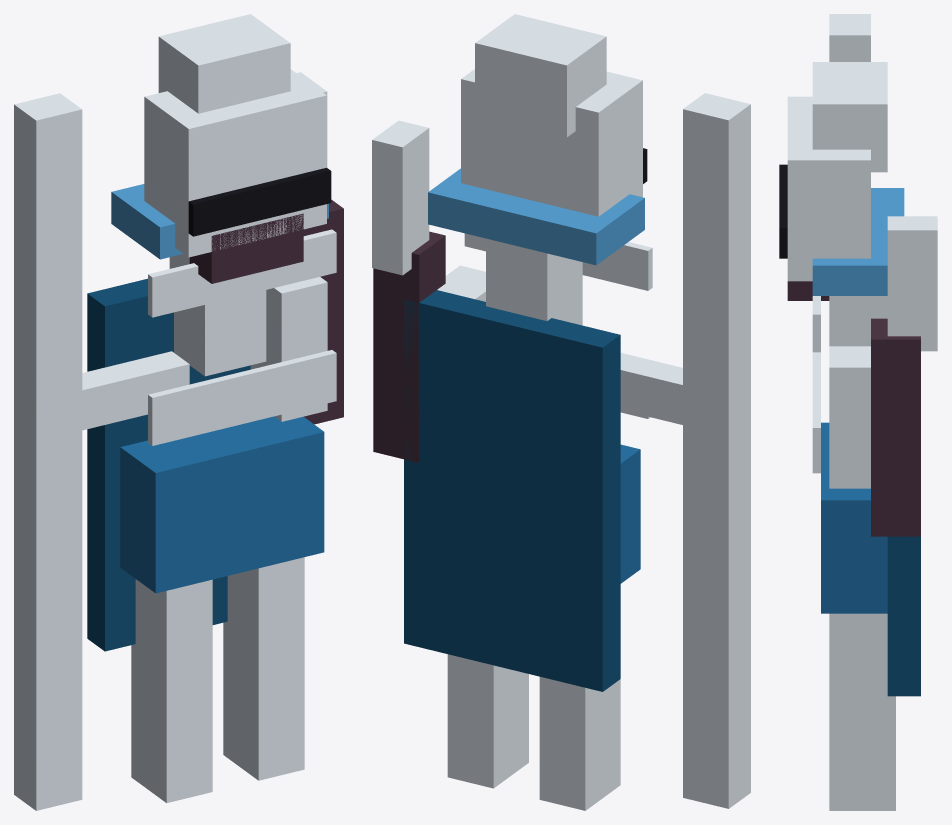
The model's file is archer.gltf.
3 views of the same model, side by side, from view 1: azimuth 30°, elevation 25°; view 2: azimuth 150°, elevation 25°; view 3: azimuth 270°, elevation 25° (orthographic). The views are drawn at different scales.
Parts seen in each view (by area): view 1: 03_hip_wrap, 02_bone_bow_lower_limb, 12_bone_bow_upper_limb, 15_skull_thrust_forward, 00_left_shin, 01_right_shin, 04_grave_cloak, 17_crown, 06_rib_lower, 09_spine, 10_rib_upper, 16_sockets (+5 smaller); view 2: 04_grave_cloak, 02_bone_bow_lower_limb, 12_bone_bow_upper_limb, 15_skull_thrust_forward, 17_crown, 13_collarbone, 05_quiver, 00_left_shin, 01_right_shin, 11_loosed_shafts, 09_spine, 08_bow_arm_level (+3 smaller); view 3: 01_right_shin, 15_skull_thrust_forward, 05_quiver, 03_hip_wrap, 17_crown, 11_loosed_shafts, 07_draw_arm, 04_grave_cloak, 13_collarbone, 09_spine, 12_bone_bow_upper_limb, 06_rib_lower (+3 smaller).
Part boxes in pixels (x1=…): 03_hip_wrap: x1=120, y1=416, x2=324, y2=593; 02_bone_bow_lower_limb: x1=14, y1=403, x2=82, y2=810; 12_bone_bow_upper_limb: x1=14, y1=93, x2=82, y2=441; 15_skull_thrust_forward: x1=144, y1=69, x2=326, y2=257; 00_left_shin: x1=131, y1=579, x2=212, y2=803; 01_right_shin: x1=223, y1=557, x2=304, y2=780; 04_grave_cloak: x1=87, y1=278, x2=250, y2=651; 17_crown: x1=158, y1=14, x2=290, y2=113; 06_rib_lower: x1=148, y1=350, x2=336, y2=445; 09_spine: x1=169, y1=254, x2=266, y2=376; 10_rib_upper: x1=148, y1=229, x2=336, y2=317; 16_sockets: x1=188, y1=167, x2=331, y2=236; 04_grave_cloak: x1=404, y1=290, x2=620, y2=691; 02_bone_bow_lower_limb: x1=683, y1=401, x2=750, y2=808; 12_bone_bow_upper_limb: x1=683, y1=93, x2=750, y2=439; 15_skull_thrust_forward: x1=461, y1=69, x2=642, y2=216; 17_crown: x1=475, y1=14, x2=606, y2=137; 13_collarbone: x1=428, y1=168, x2=644, y2=265; 05_quiver: x1=373, y1=231, x2=445, y2=462; 00_left_shin: x1=539, y1=677, x2=620, y2=810; 01_right_shin: x1=447, y1=654, x2=528, y2=788; 11_loosed_shafts: x1=372, y1=120, x2=429, y2=275; 09_spine: x1=486, y1=238, x2=582, y2=325; 08_bow_arm_level: x1=620, y1=353, x2=682, y2=424; 01_right_shin: x1=829, y1=613, x2=895, y2=810; 15_skull_thrust_forward: x1=787, y1=96, x2=870, y2=281; 05_quiver: x1=871, y1=318, x2=920, y2=536; 03_hip_wrap: x1=821, y1=422, x2=887, y2=613; 17_crown: x1=812, y1=62, x2=887, y2=172; 11_loosed_shafts: x1=887, y1=216, x2=937, y2=351; 07_draw_arm: x1=829, y1=346, x2=870, y2=488; 04_grave_cloak: x1=887, y1=536, x2=920, y2=696; 13_collarbone: x1=812, y1=188, x2=904, y2=295; 09_spine: x1=829, y1=296, x2=887, y2=346; 12_bone_bow_upper_limb: x1=829, y1=14, x2=870, y2=61; 06_rib_lower: x1=812, y1=352, x2=820, y2=473.
Size of the model in its own units: 0.6719 by 1.44 by 0.2969.
